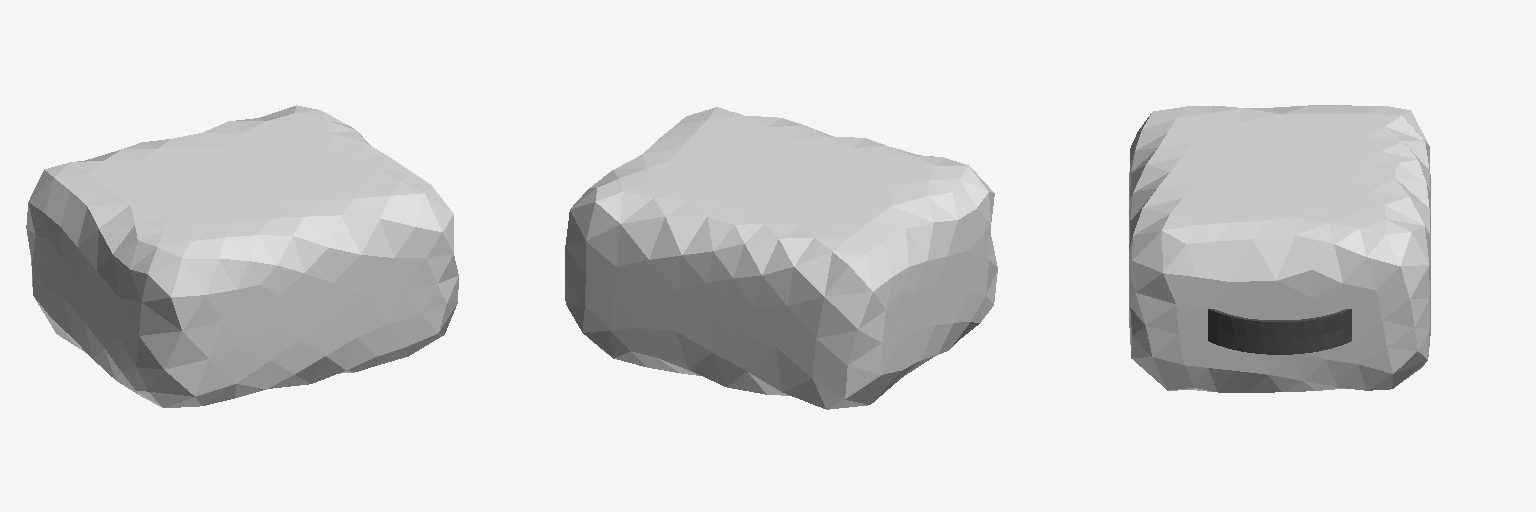
3 views of the same model, side by side, from view 1: azimuth 30°, elevation 25°; view 2: azimuth 150°, elevation 25°; view 3: azimuth 270°, elevation 25° (orthographic).
Visible parts, largest first — view 1: side_handle_bag; view 2: side_handle_bag; view 3: side_handle_bag.
Part boxes in pixels (left/top/right/bottom): side_handle_bag: left=26, top=105, right=458, bottom=407; side_handle_bag: left=565, top=107, right=997, bottom=409; side_handle_bag: left=1129, top=105, right=1430, bottom=392.
Bounding box in the file's own units: 0.5446 × 0.25 × 0.42.
Materials: 1 (1 with a texture image).